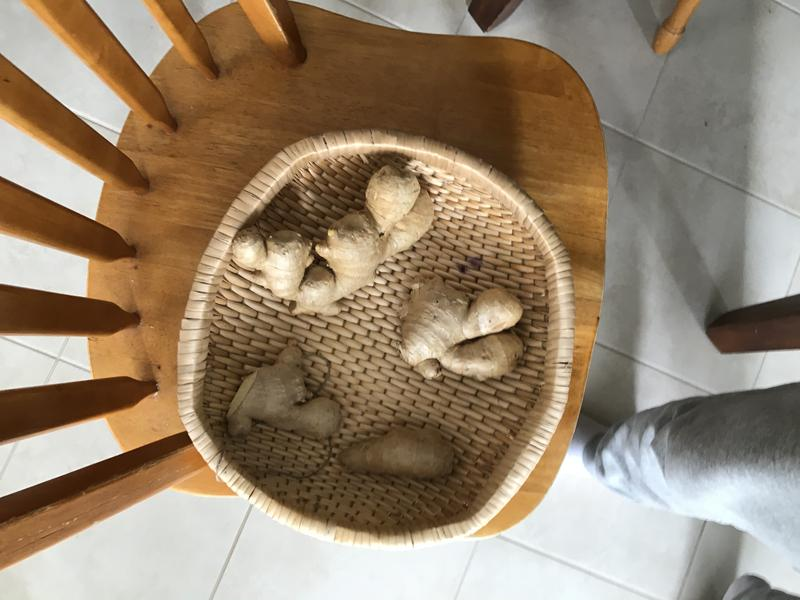ginger: (218, 162, 443, 320), (397, 275, 529, 390), (223, 337, 341, 446), (342, 419, 462, 490)
